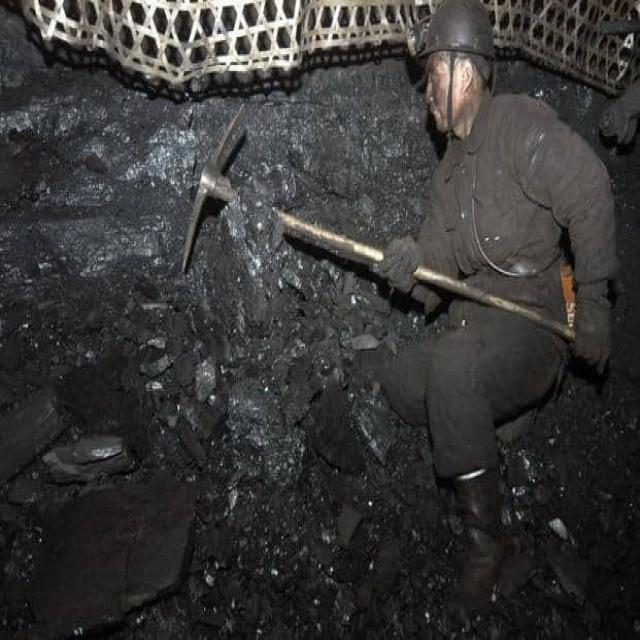person: (379, 0, 606, 580)
safety_helmet: (411, 4, 504, 58)
